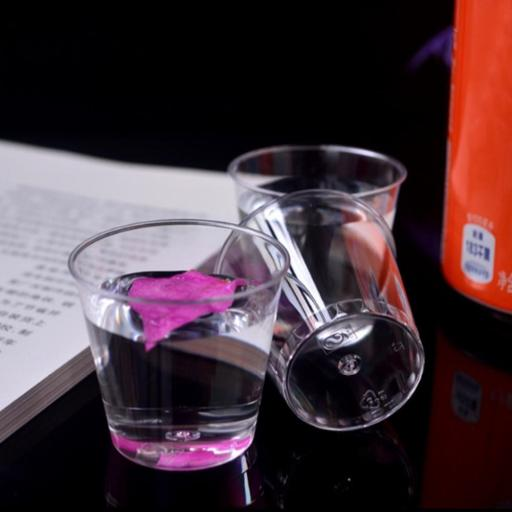cup: (69, 219, 289, 470), (242, 190, 424, 430), (229, 145, 406, 227)
